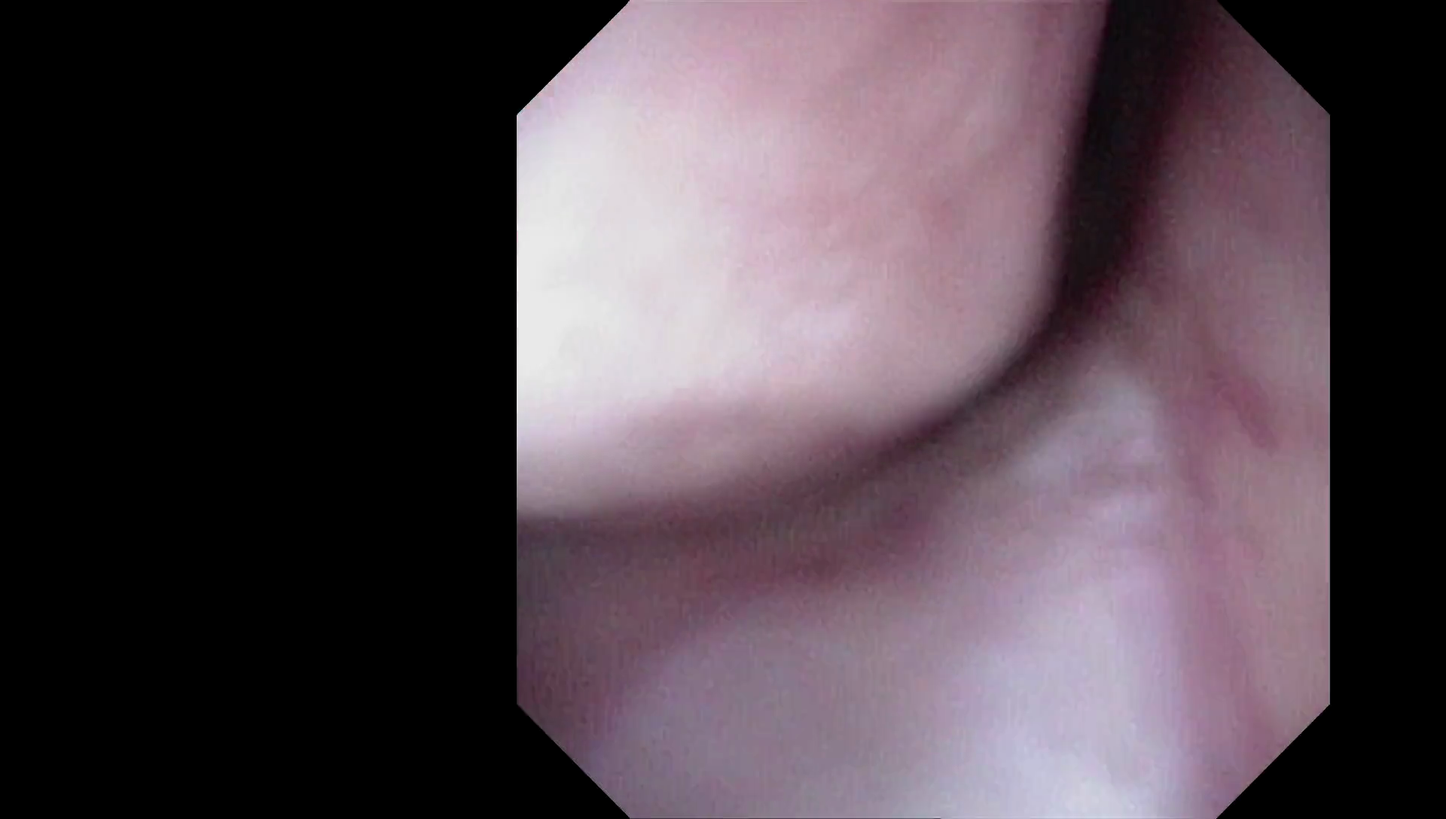close_wall: (536, 102, 1102, 485), (648, 522, 1215, 819)
next: (938, 16, 1221, 442)
